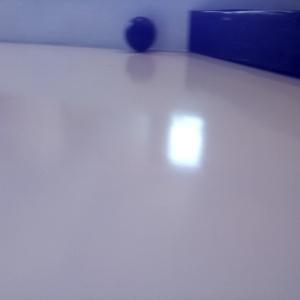zone: (188, 9, 300, 79)
